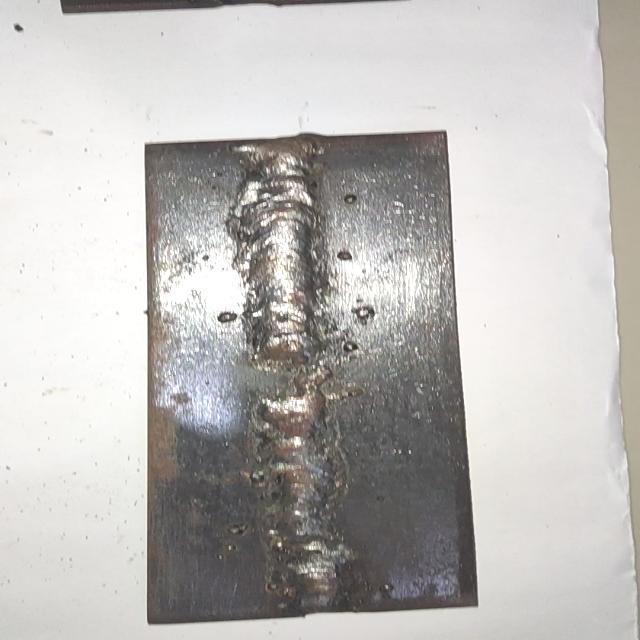Defect: (232, 338, 361, 410)
Welding Line: (236, 139, 353, 607)
Workpiece: (141, 128, 489, 622)
